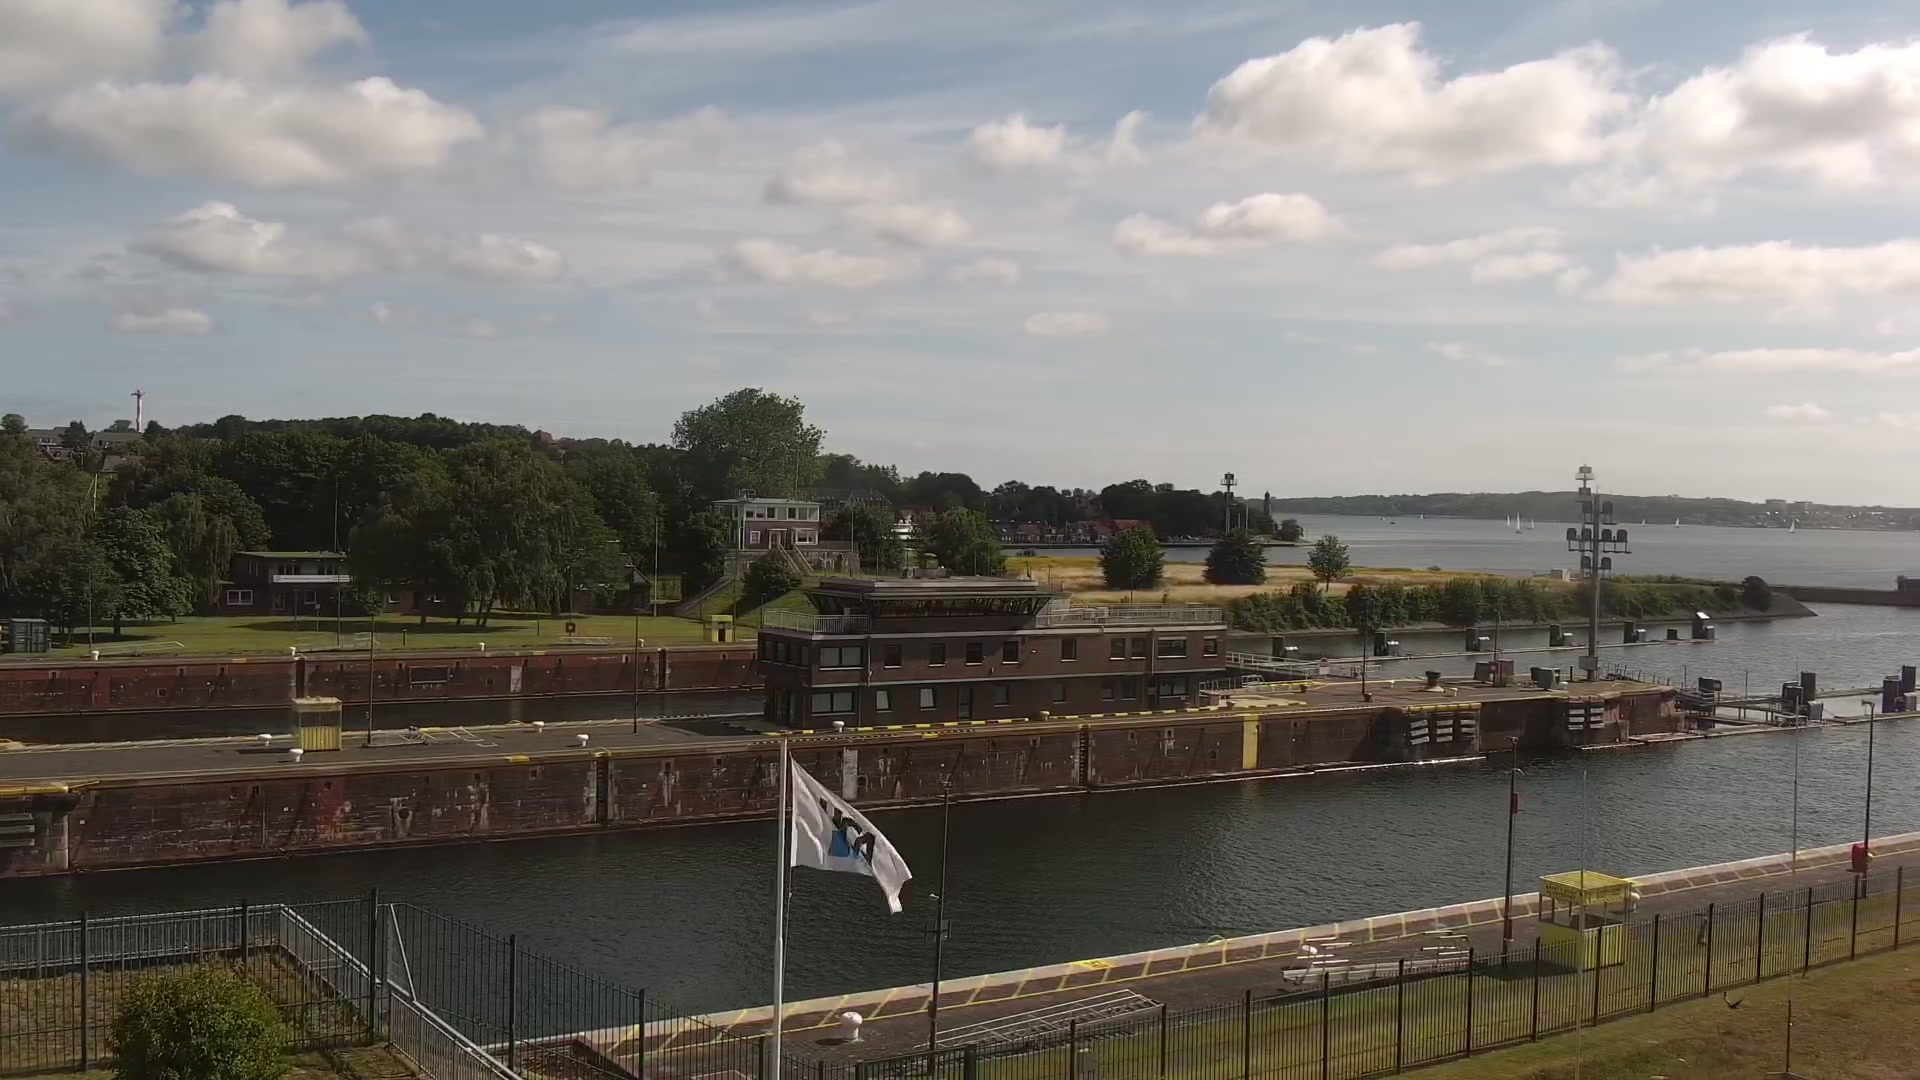sea: (1514, 512, 1522, 534), (1788, 518, 1796, 531), (1672, 516, 1680, 527), (1526, 518, 1534, 529), (1506, 514, 1511, 527), (1390, 518, 1396, 524), (1640, 520, 1644, 527), (1379, 516, 1385, 521), (1419, 513, 1423, 520)
